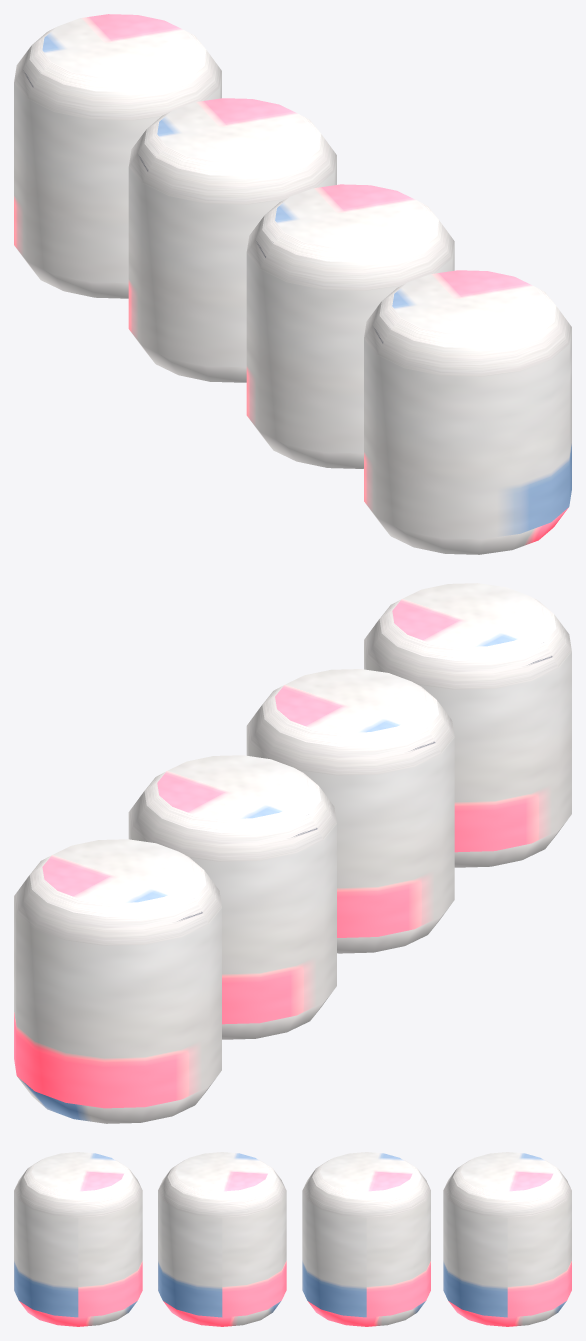
File: Blue_Mentos.fbx
The picture shows the model from 3 angles, top to bottom: view 1: azimuth 30°, elevation 25°; view 2: azimuth 150°, elevation 25°; view 3: azimuth 270°, elevation 25°; orthographic projection. The views are drawn at different scales.
Parts seen in each view (by area): view 1: pCylinder21; view 2: pCylinder21; view 3: pCylinder21.
Boxes of the visible parts, x1,y1,x2,y2 form: pCylinder21: (14,14,571,554); pCylinder21: (14,583,571,1123); pCylinder21: (14,1152,571,1326).
Size of the model in its own units: 8.93 by 10.11 by 38.71.
